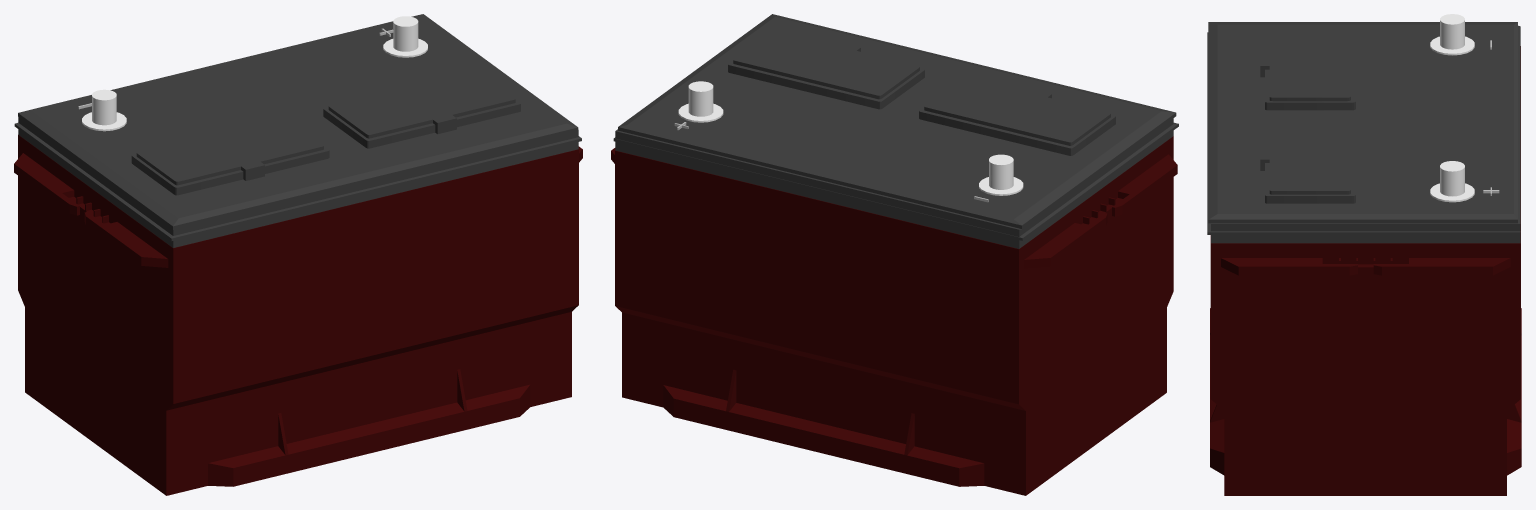
Rendered from ejemplo4.glb.
The picture shows the model from 3 angles, left to right: view 1: azimuth 30°, elevation 25°; view 2: azimuth 150°, elevation 25°; view 3: azimuth 270°, elevation 25°; orthographic projection.
Visible parts, largest first — view 1: Box001; view 2: Box001; view 3: Box001.
Part boxes in pixels (x1=…): Box001: x1=14, y1=14, x2=582, y2=495; Box001: x1=611, y1=14, x2=1178, y2=495; Box001: x1=1207, y1=14, x2=1521, y2=495.
Bounding box in the file's own units: 12.01 × 7.92 × 7.41.
